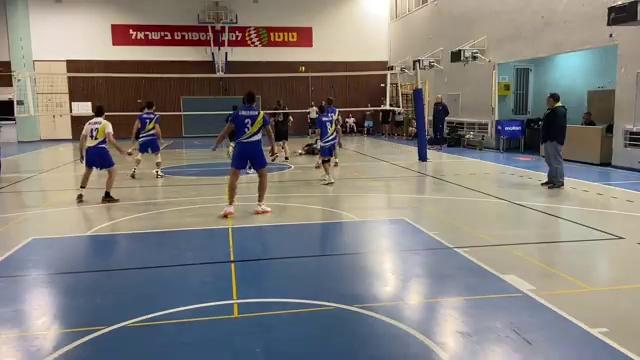ball: (297, 64, 311, 73)
